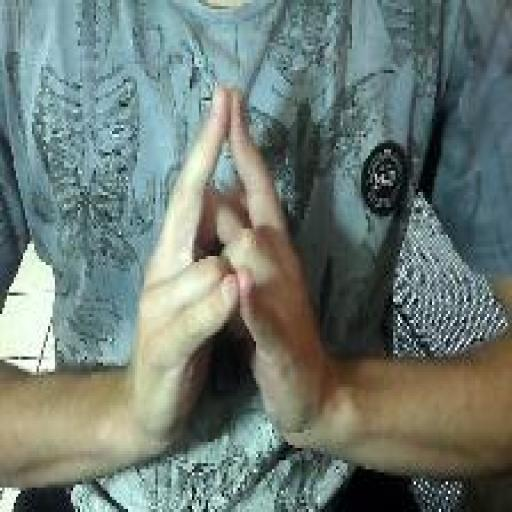Tori -bird-: (129, 81, 328, 465)
